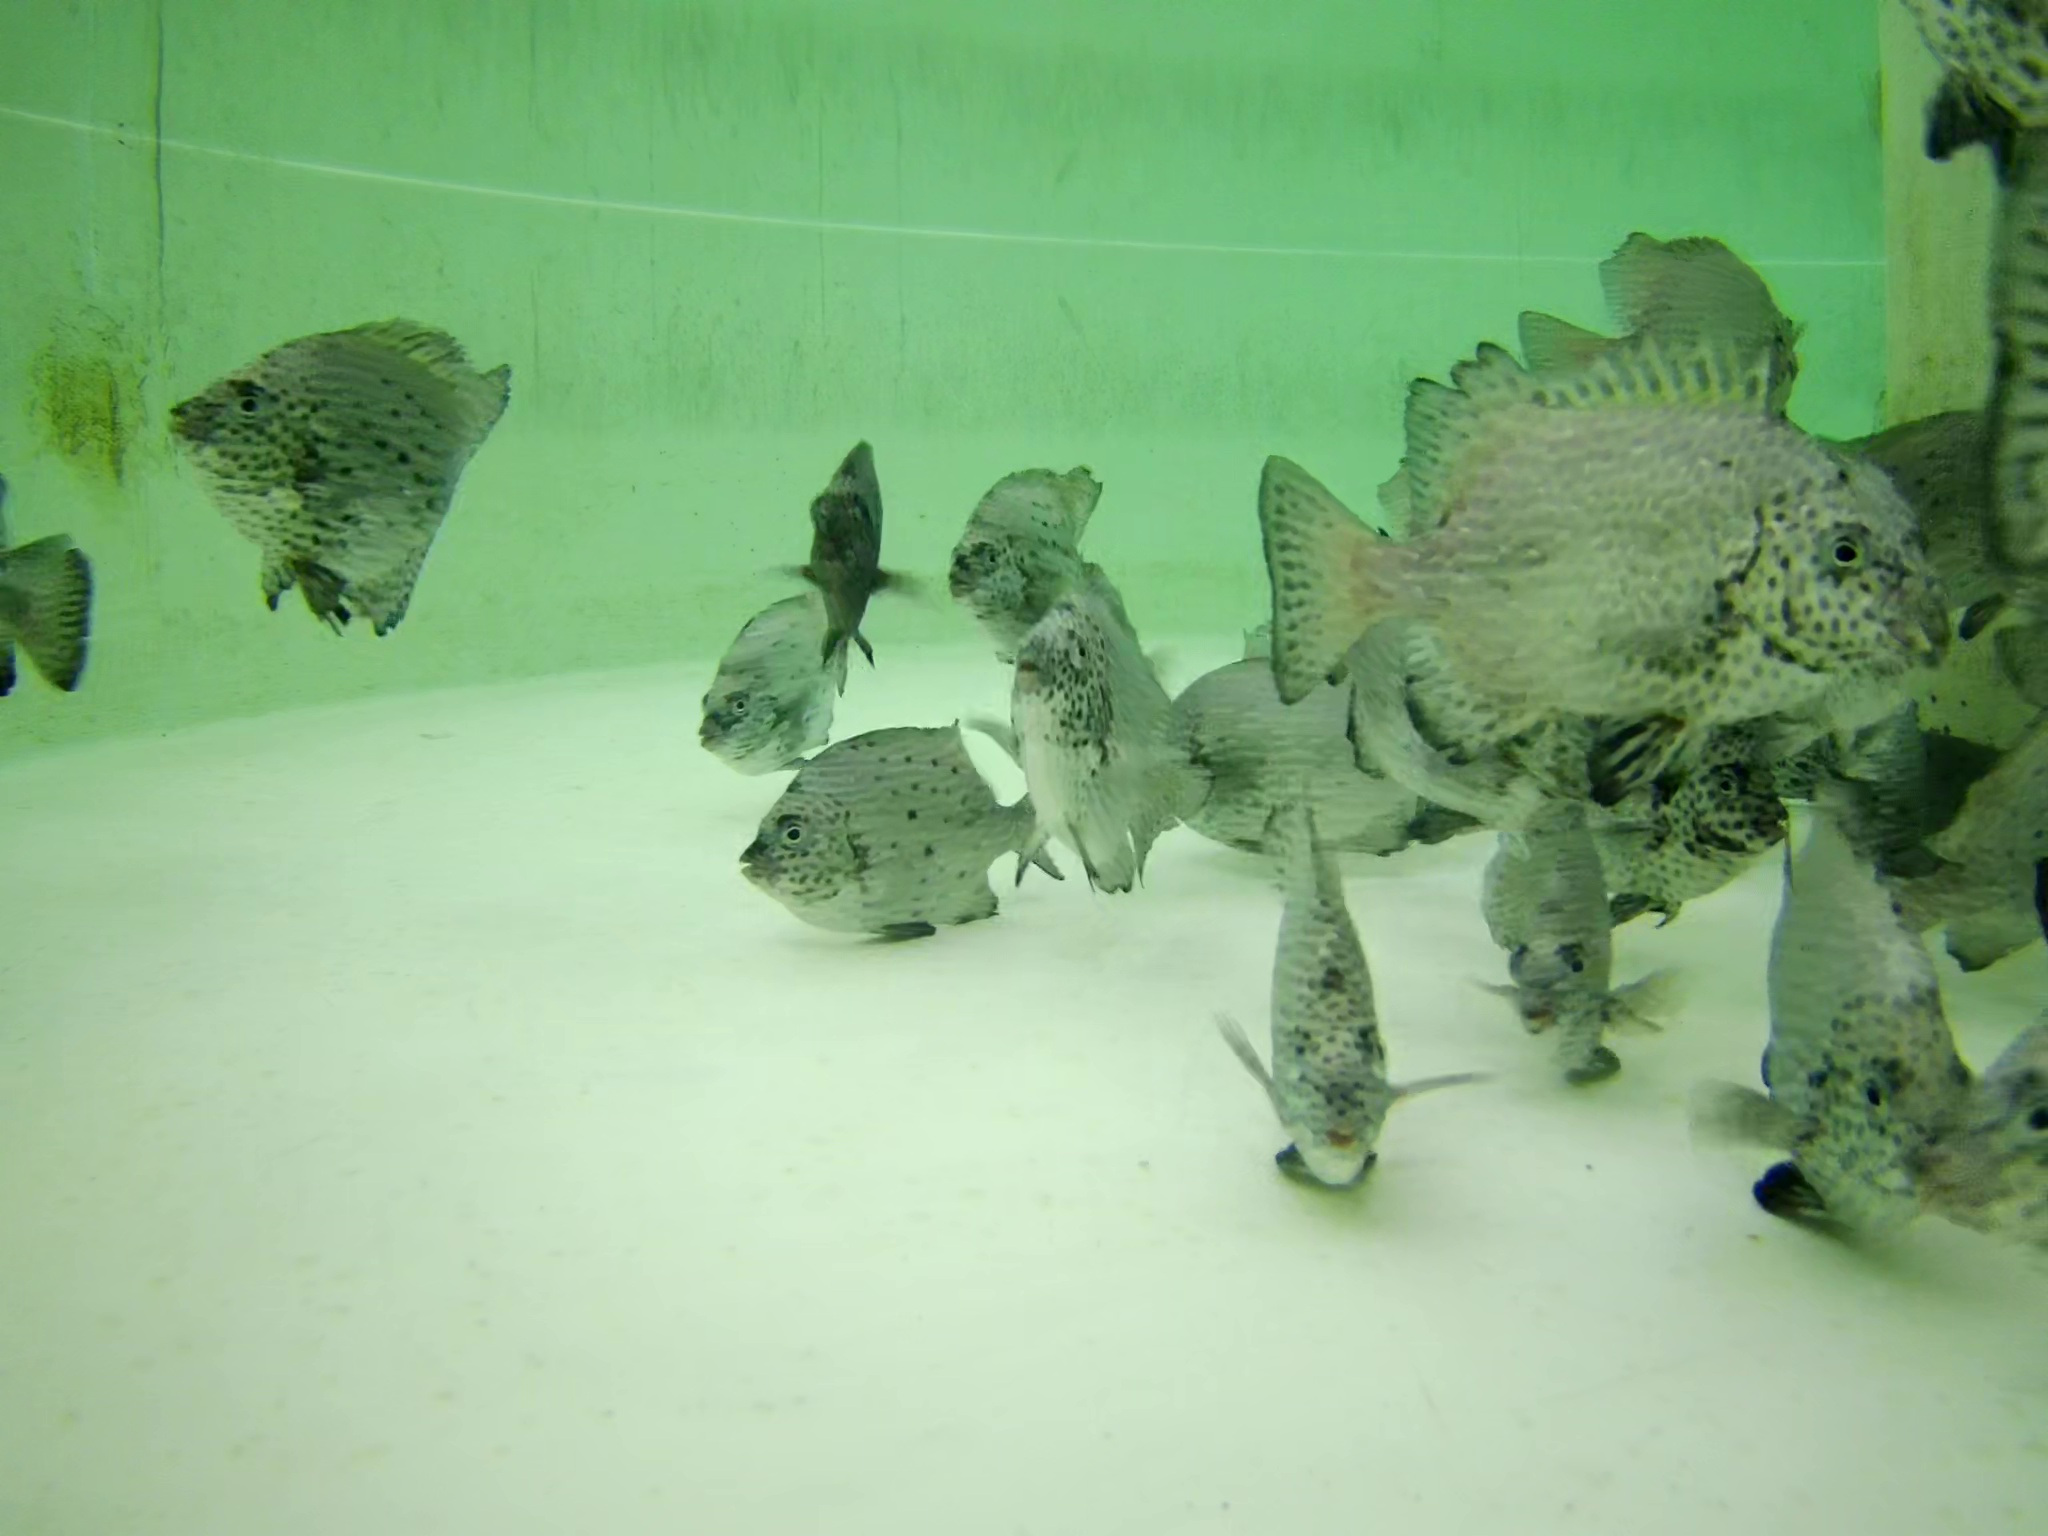fish: (1250, 360, 1945, 757), (173, 305, 516, 637), (1745, 799, 1980, 1226), (990, 561, 1219, 894), (722, 729, 1069, 939), (1927, 11, 2048, 568), (1247, 831, 1417, 1191), (1517, 219, 1804, 416), (1168, 650, 1405, 862), (1505, 789, 1645, 1083), (1558, 731, 1788, 892), (1904, 1012, 2048, 1246), (950, 455, 1116, 631), (801, 434, 908, 662), (693, 595, 837, 763), (2, 492, 100, 715)
